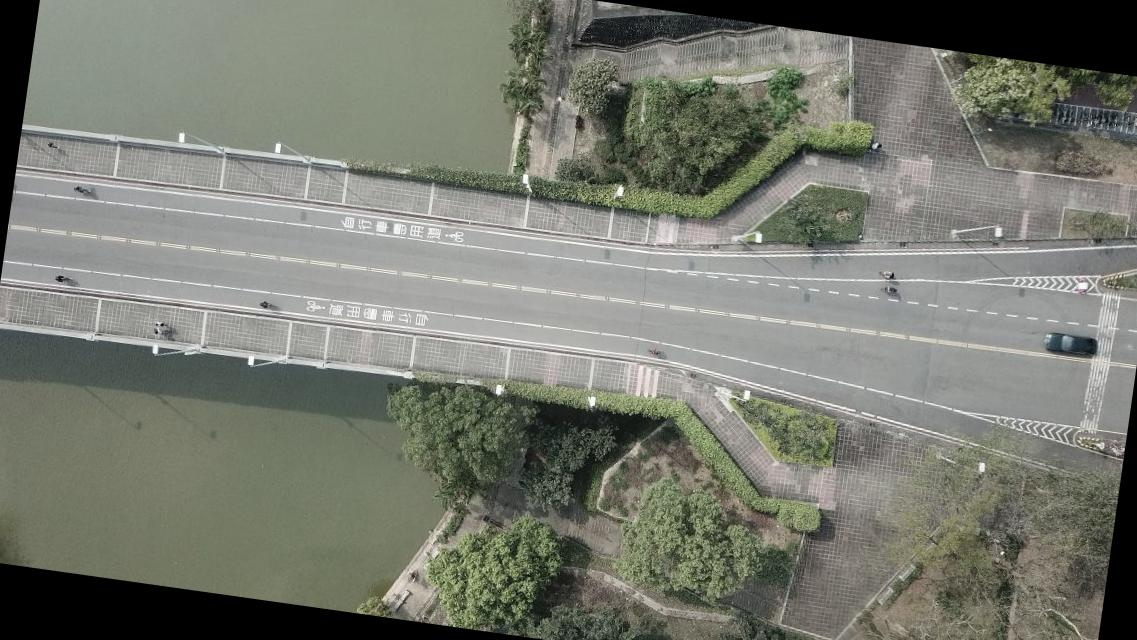vehicle: (1042, 332, 1098, 358)
